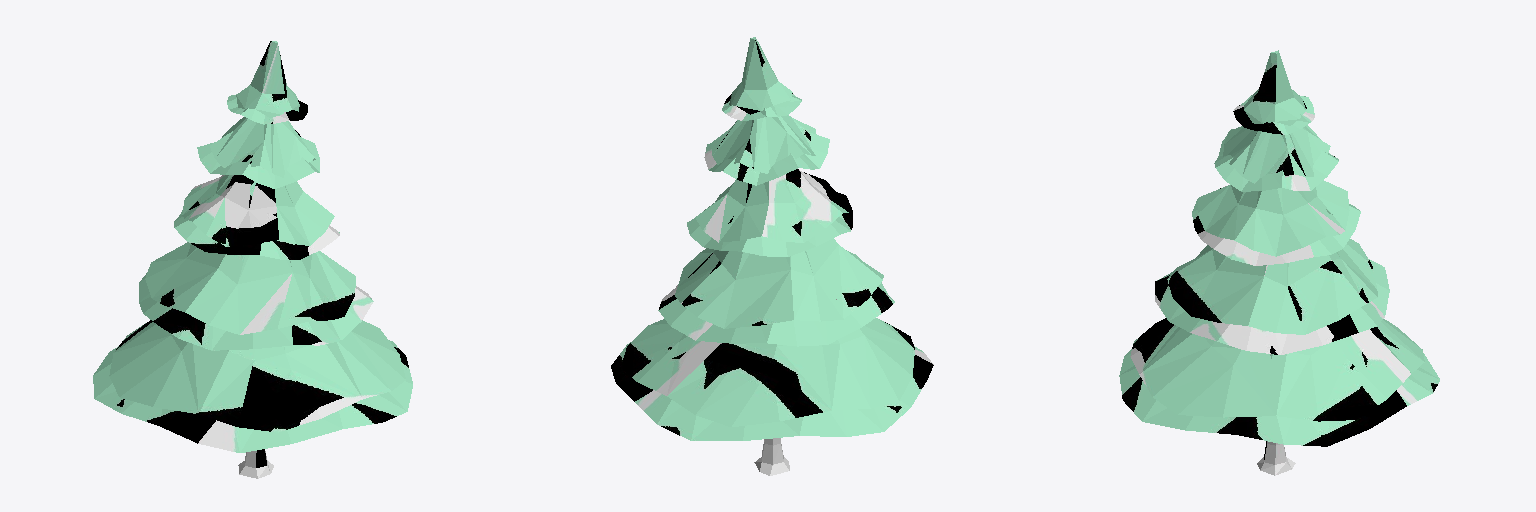
The picture shows the model from 3 angles: view 1: azimuth 30°, elevation 25°; view 2: azimuth 150°, elevation 25°; view 3: azimuth 270°, elevation 25°; orthographic projection.
Visible parts, largest first — view 1: Cone.005_Cone.006; view 2: Cone.005_Cone.006; view 3: Cone.005_Cone.006.
Part boxes in pixels (x1,y1,x2,y2): Cone.005_Cone.006: (93,41,412,478); Cone.005_Cone.006: (611,37,933,475); Cone.005_Cone.006: (1119,50,1439,475).
Size of the model in its own units: 3.89 by 5.67 by 3.89.
2 materials, 1 textured.